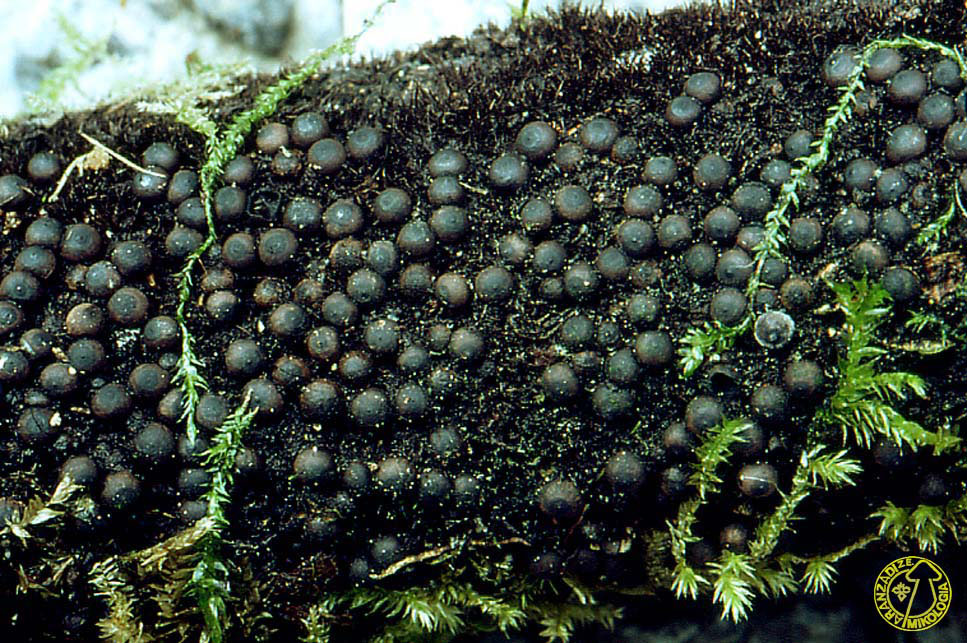pudricion radicular: (12, 45, 965, 626)
